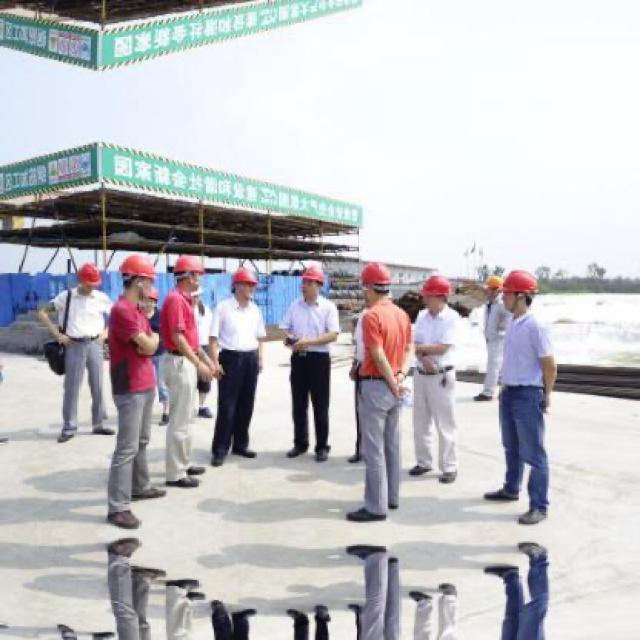con casco: (117, 247, 174, 319), (492, 263, 568, 311), (64, 253, 124, 308), (368, 261, 408, 307), (174, 243, 205, 290), (432, 263, 460, 315), (232, 259, 262, 300), (299, 265, 320, 297)
